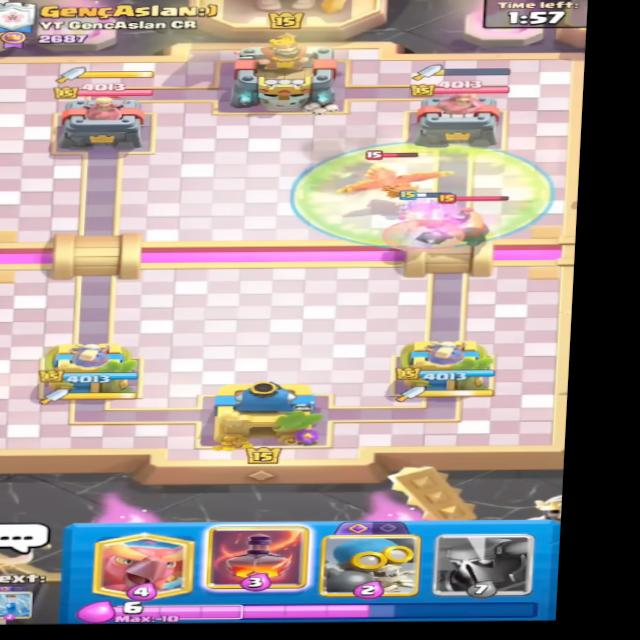mega-knight: (417, 193, 526, 252)
phoenix: (330, 150, 463, 203)
